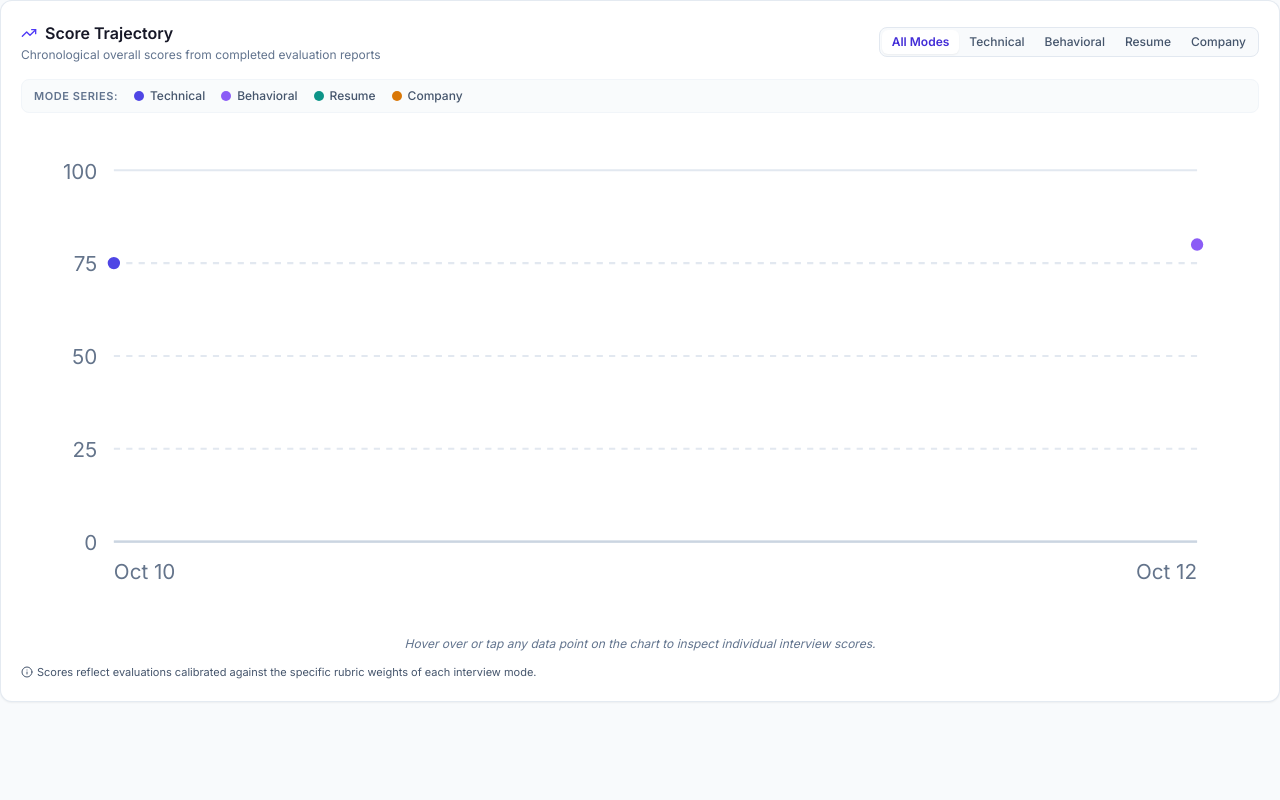
Test case: ScoreTrendChart component › allows switching interview mode tabs
Note: Switch to Technical mode tab (only 1 point exists for technical)
Click the tab "Technical" at (997, 42), box top-left (959, 30), bottom-right (1034, 54)
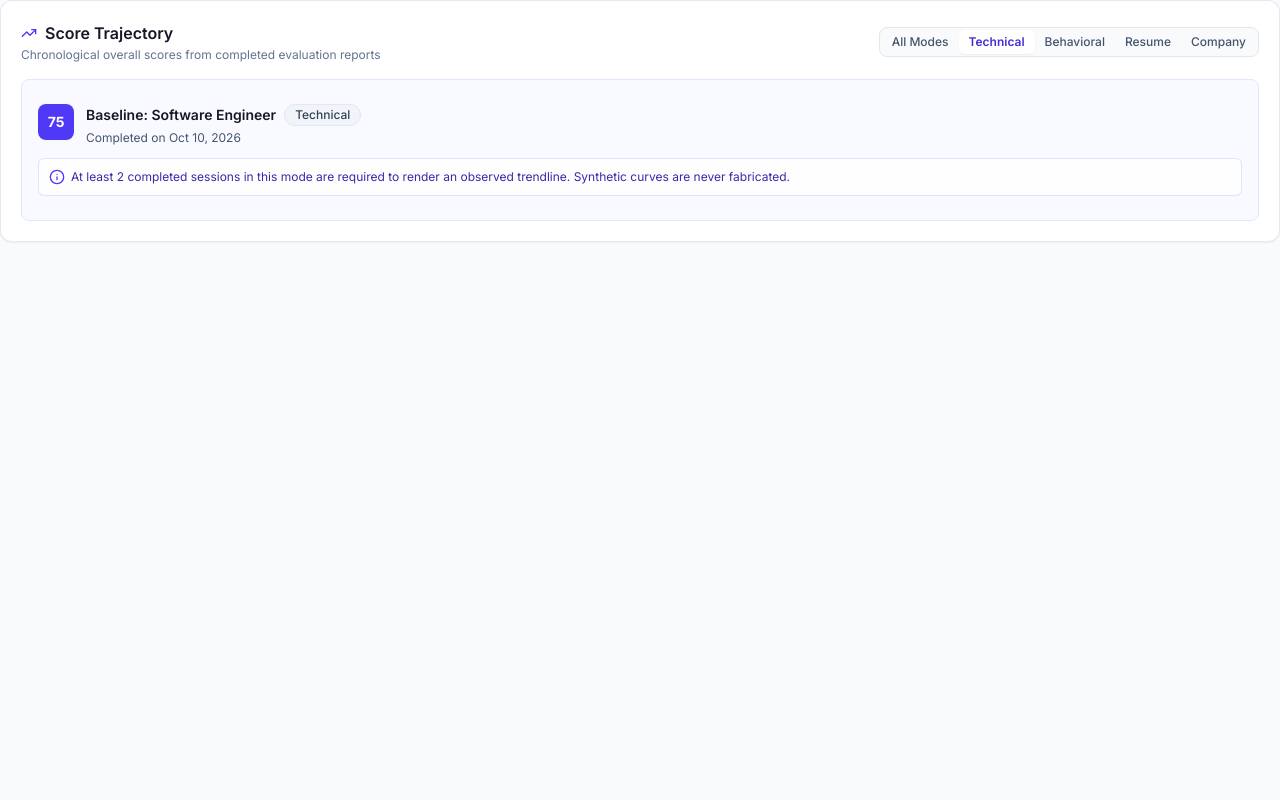
expect the text "Baseline: Software Engineer" is shown: met, box top-left (86, 105), bottom-right (276, 125)
